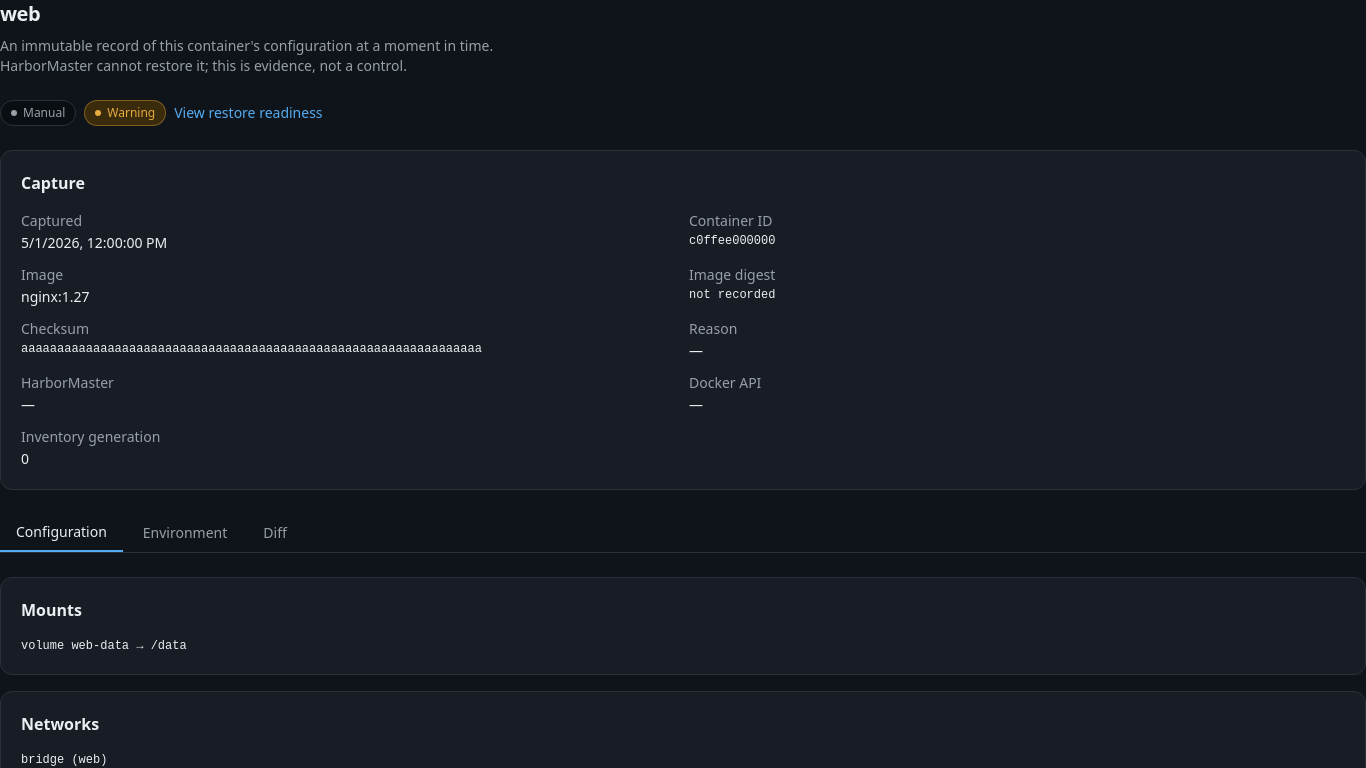
Test: Snapshot detail › explains that secrets block a restore
The width and height of the screenshot is (1366, 768).
Click the button "environment".
click(185, 533)  # box [127,514,243,552]
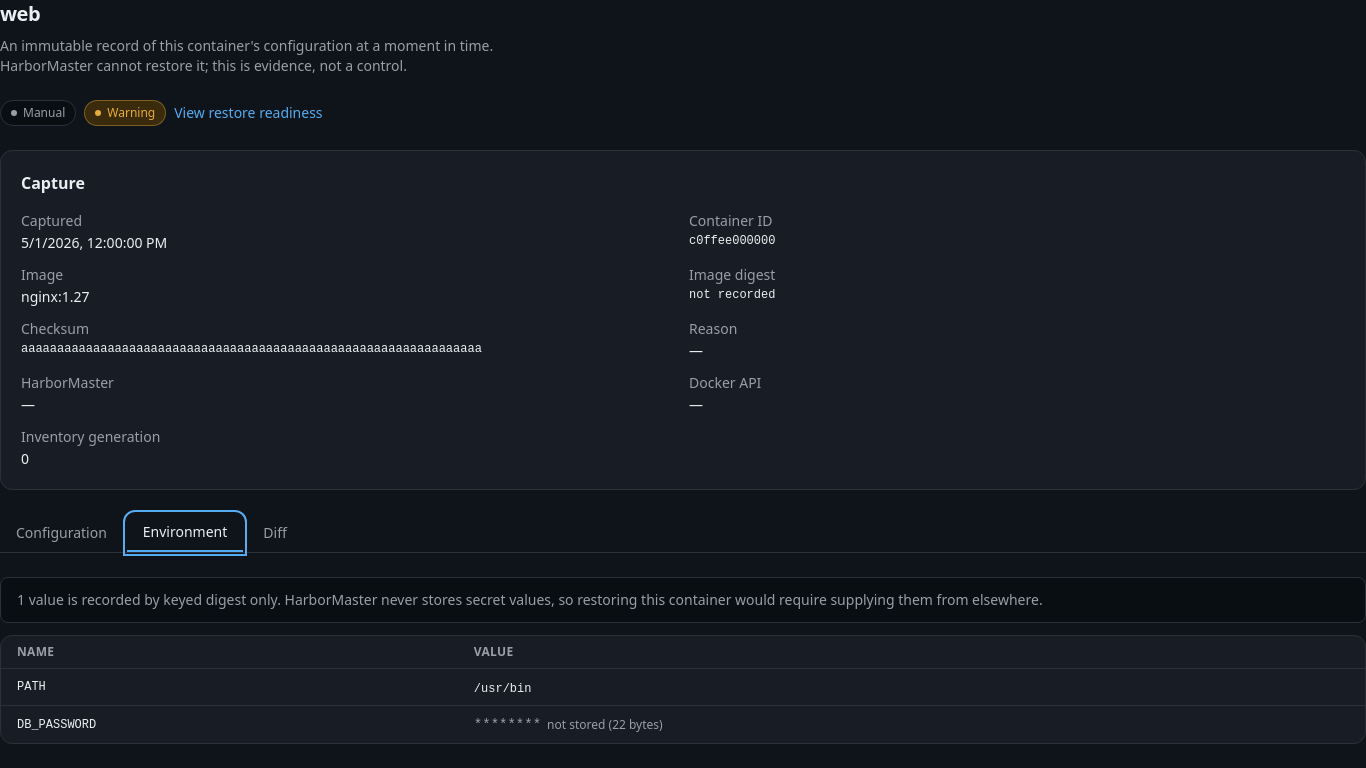
Check: the text "never stores secret values" is shown, box [78,590,1043,609]
